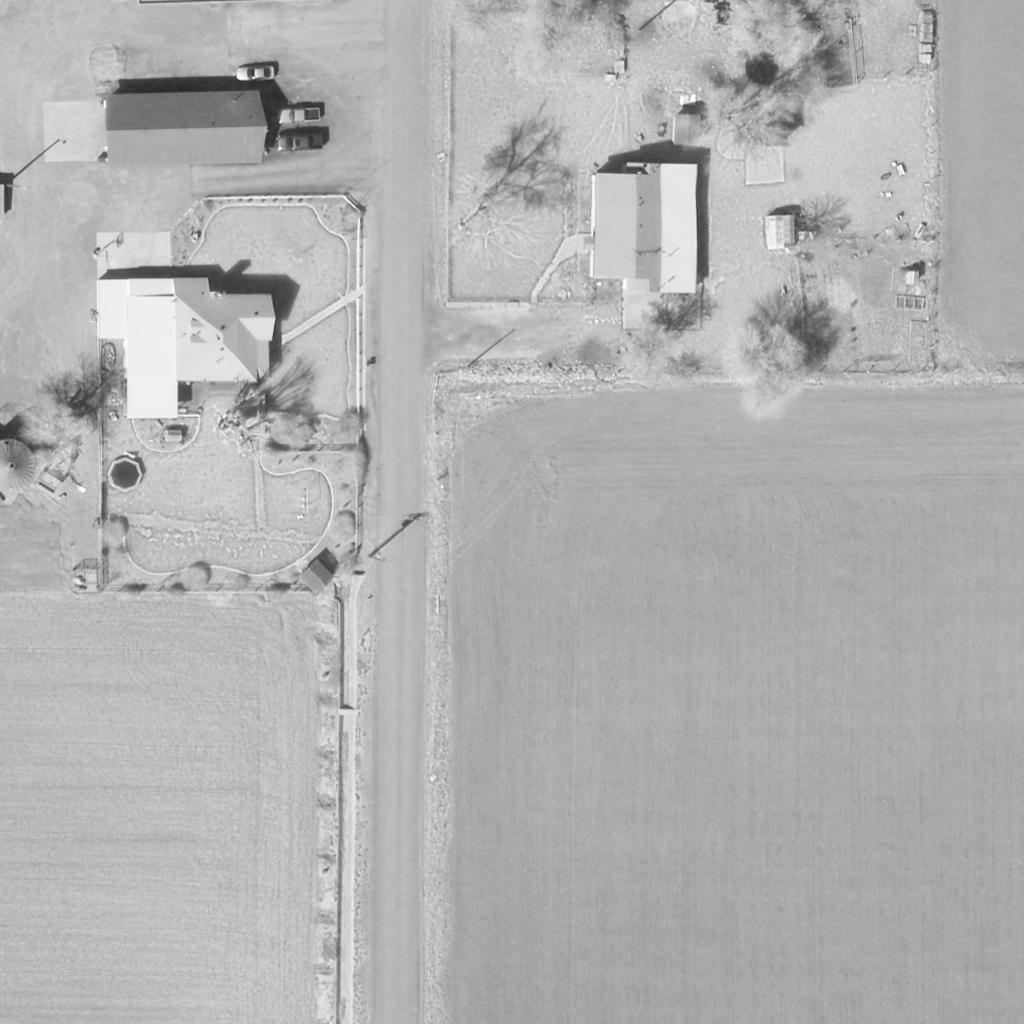vehicle: (273, 104, 321, 124), (275, 134, 327, 152), (234, 66, 276, 84)
